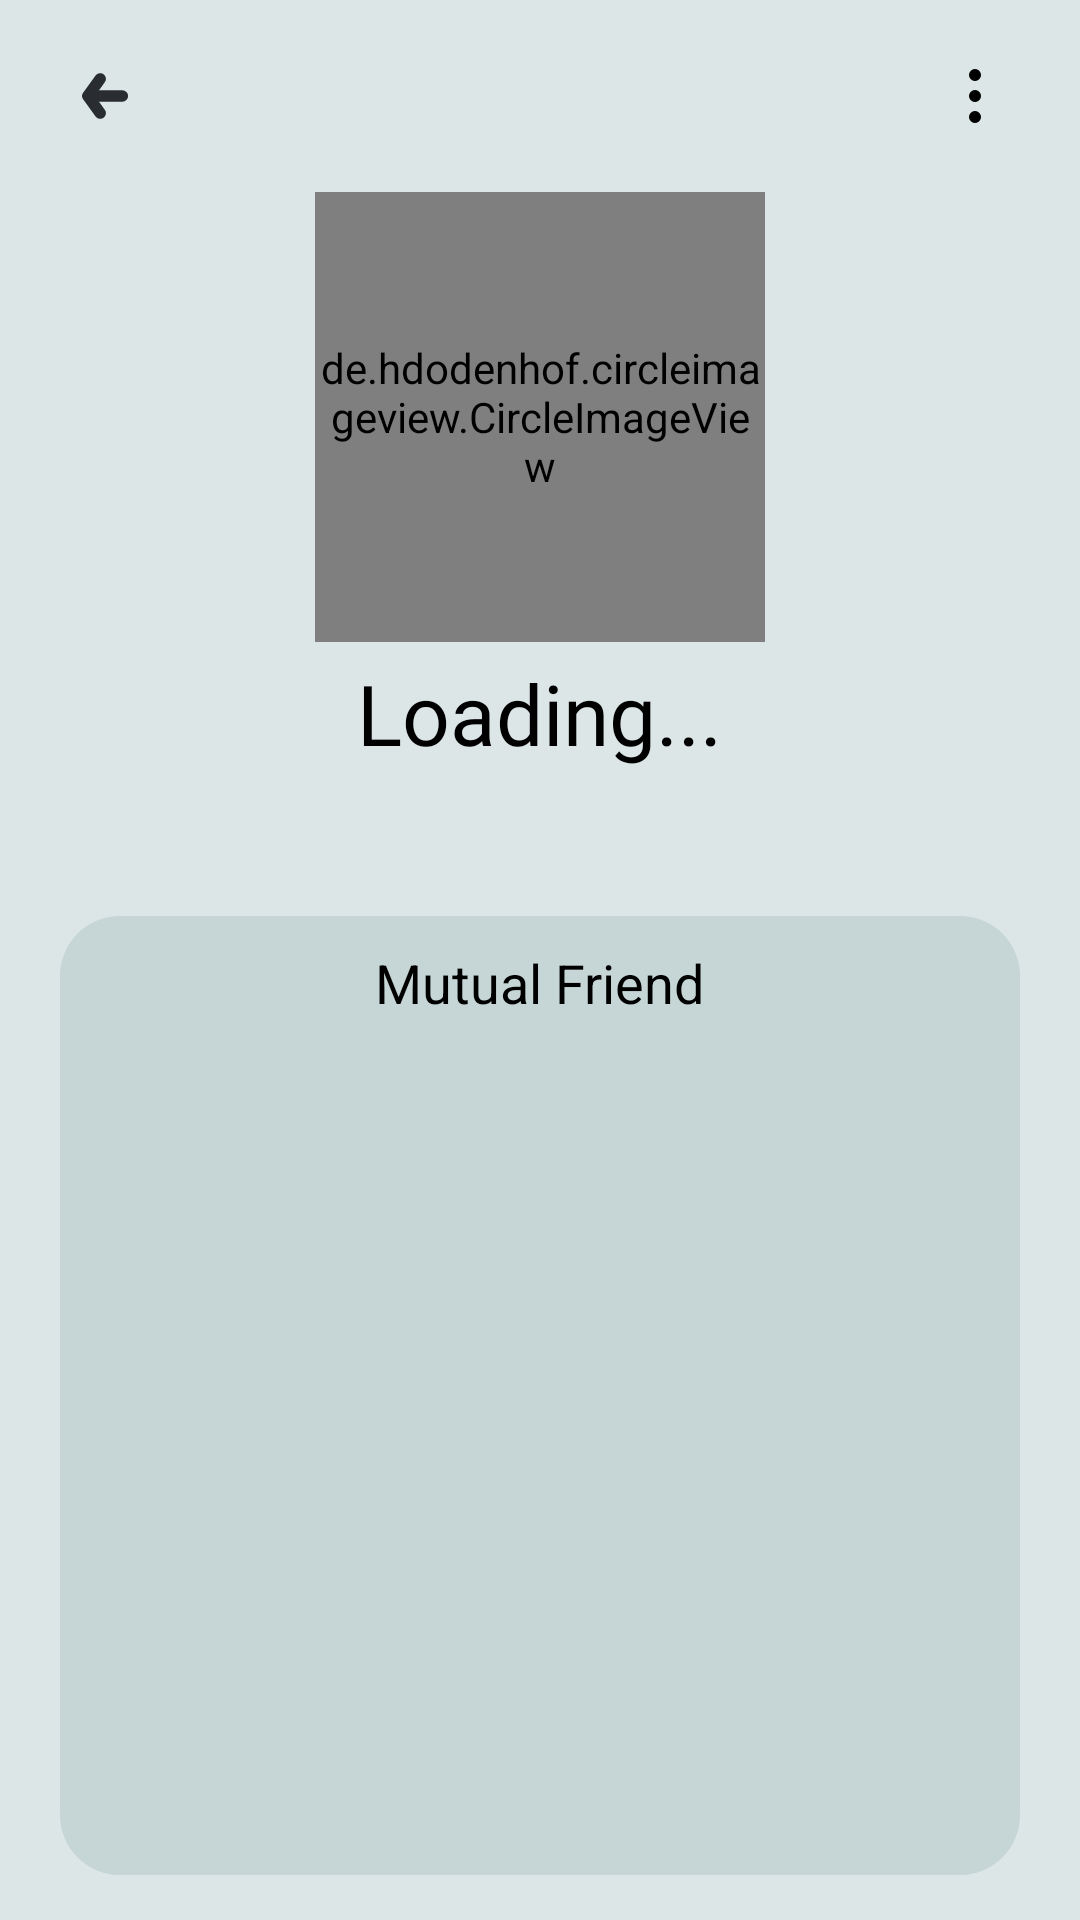

Where to tap for icons on this 1080px×1920px app screen, as point (x, y):
back arrow: point (105, 96)
vertical: point (975, 96)
